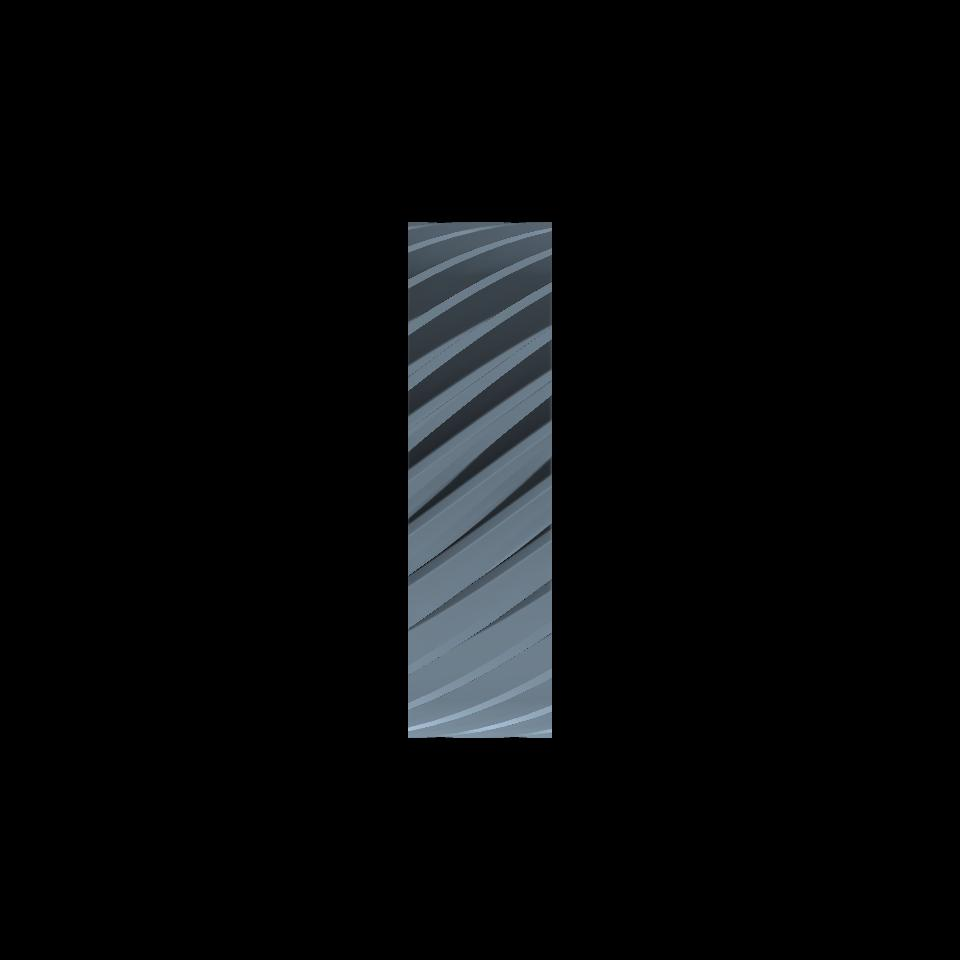Helical: (408, 220, 552, 738)
